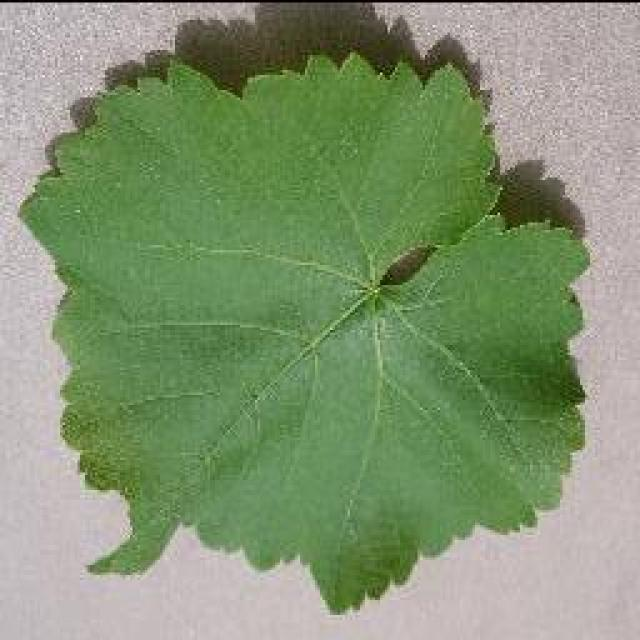Grape___healthy: (22, 55, 588, 608)
